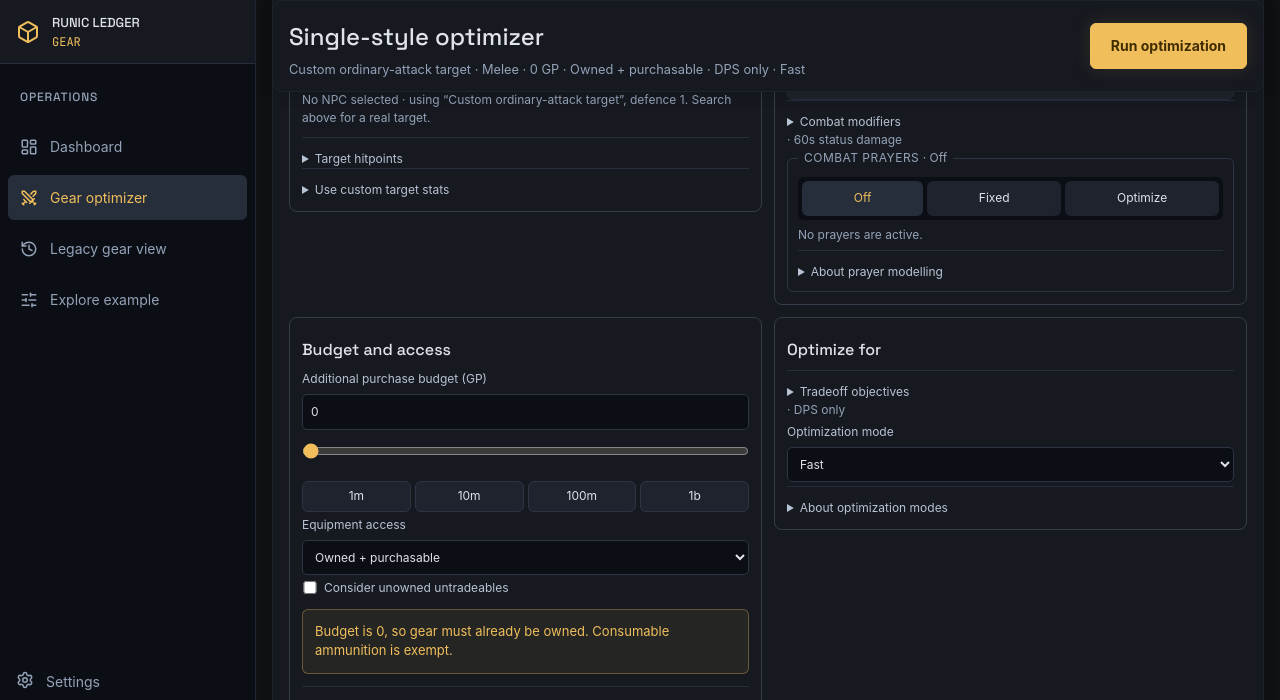
it: refreshes once on a pre-admission conflict, second conflict true
(page scrolled)
Replace the text in the field labelled "Additional purchase budget (GP)" with "1234" at (526,412), box [302,394,749,430]
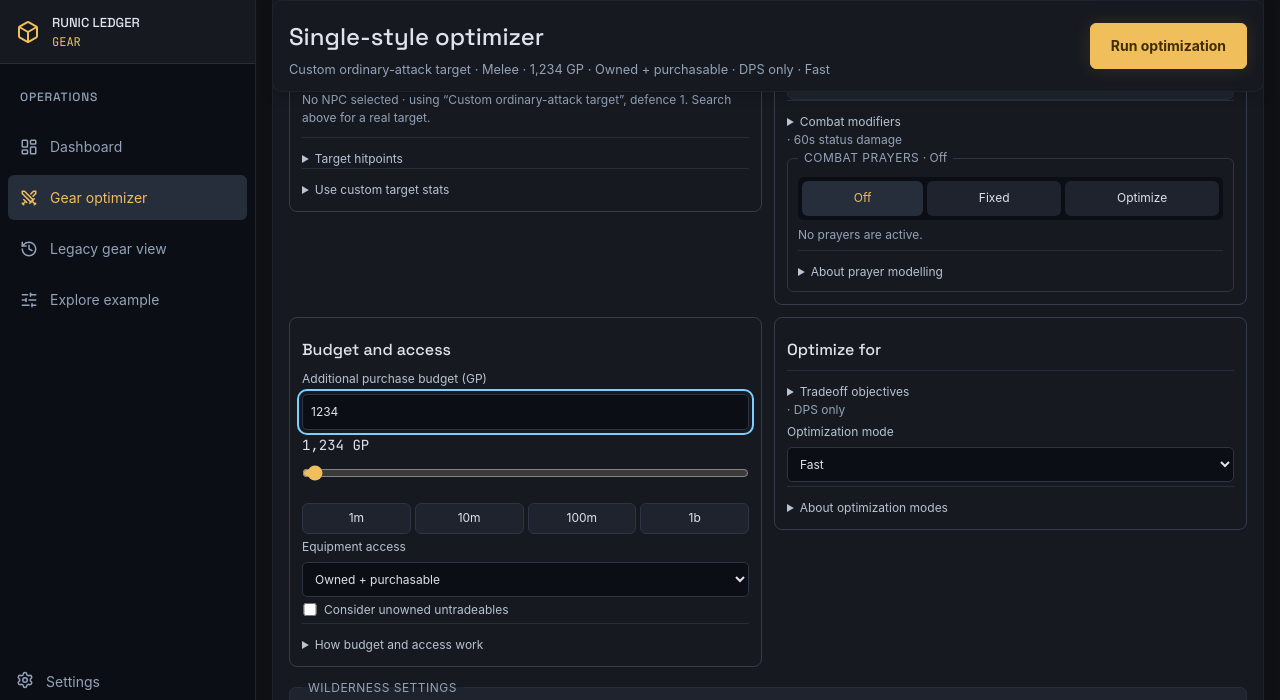
Click the button "Run optimization" at (1168,46), box [1090,23,1247,69]
(page scrolled)
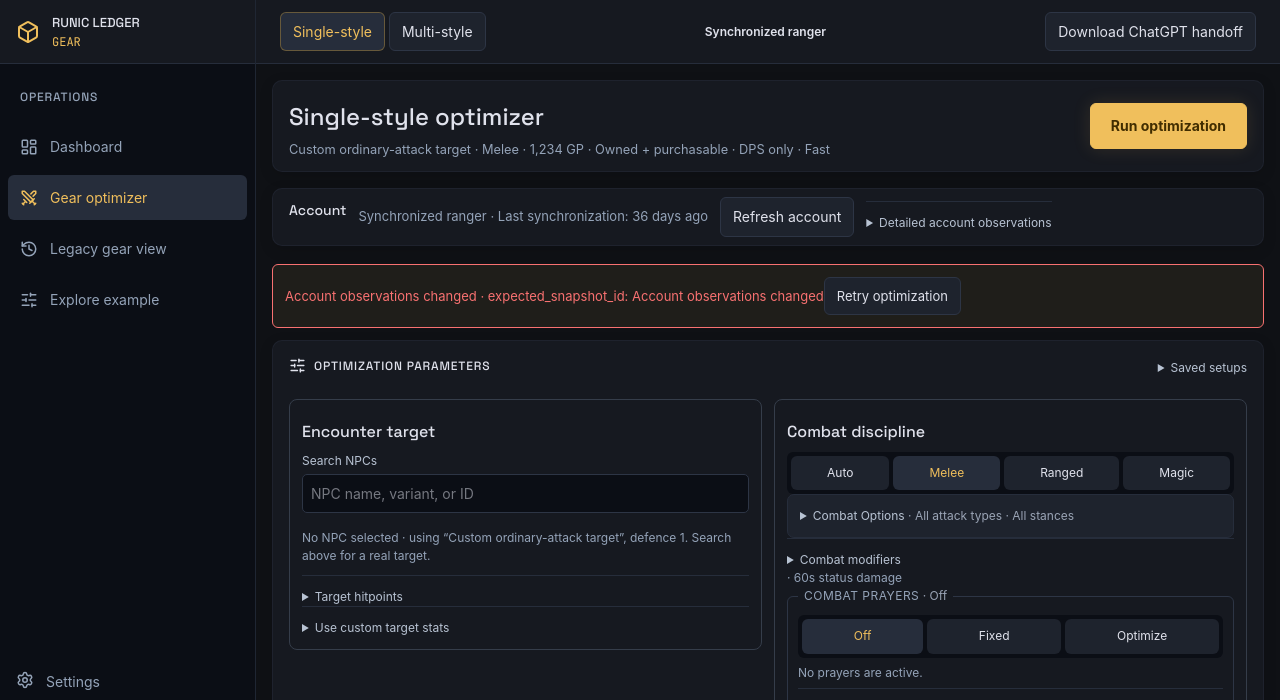
Expected: the text "Account observations changed" is shown, [285,288,824,304]
